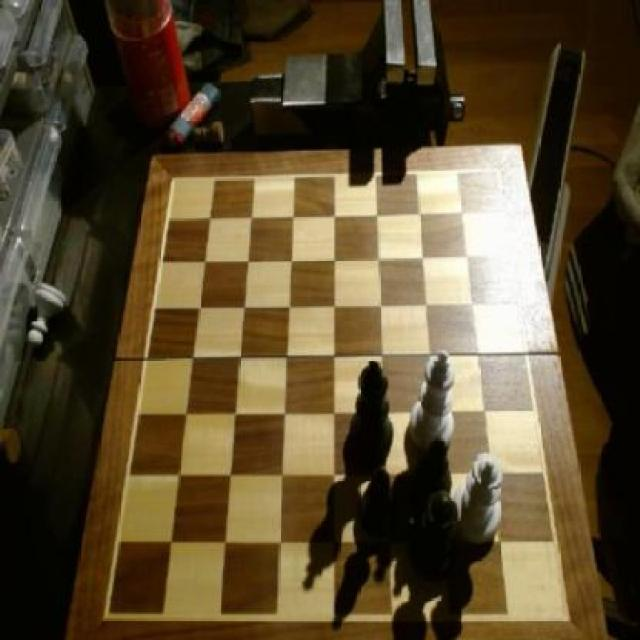bishop: (363, 468, 405, 554), (409, 437, 452, 508)
black-bishop: (352, 355, 397, 467)
black-pawn: (408, 490, 458, 578)
white-bishop: (410, 344, 458, 452)
white-pawn: (457, 446, 504, 555)
